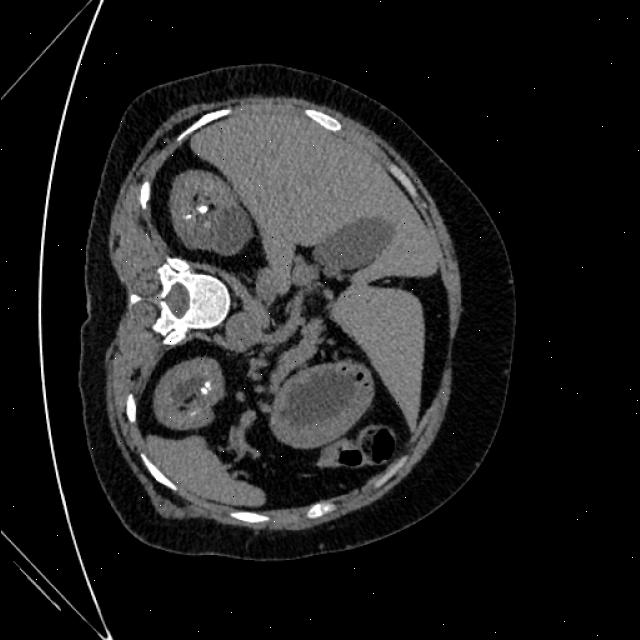kidneystone: (199, 381, 210, 395), (197, 205, 208, 214)
